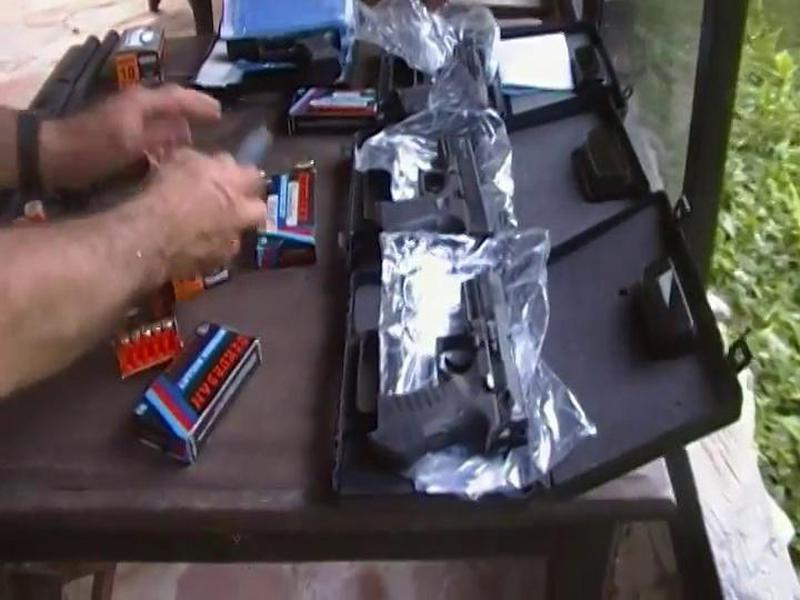Pistola: (355, 263, 550, 491), (366, 116, 516, 252)
